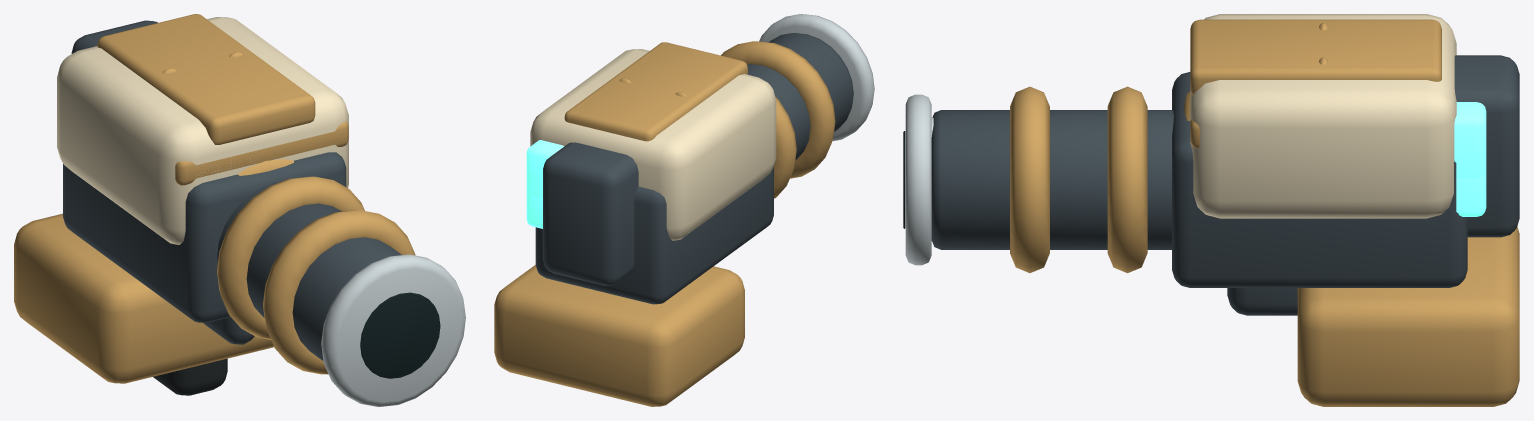
File: shoulder_cannon.t4.glb
3 renders of one model, left to right at view 1: azimuth 30°, elevation 25°; view 2: azimuth 150°, elevation 25°; view 3: azimuth 270°, elevation 25°, orthographic. The views are drawn at different scales.
Visible parts, largest first — view 1: weapon_shoulder__worn_warm_brass__protected, weapon_shoulder__clay_warm_ivory__protected, weapon_shoulder__forged_bluelead_steel__protected, weapon_right__worn_warm_brass__protected, weapon_shoulder__honed_steel_edge__protected, weapon_shoulder__eye_socket__protected, weapon_right__charcoal_rubber__protected, weapon_right__forged_bluelead_steel__protected; view 2: weapon_shoulder__worn_warm_brass__protected, weapon_shoulder__clay_warm_ivory__protected, weapon_shoulder__forged_bluelead_steel__protected, weapon_right__forged_bluelead_steel__protected, weapon_right__worn_warm_brass__protected, weapon_shoulder__honed_steel_edge__protected, weapon_right__mint_reticle__protected, weapon_shoulder__mint_reticle__protected; view 3: weapon_shoulder__forged_bluelead_steel__protected, weapon_shoulder__worn_warm_brass__protected, weapon_shoulder__clay_warm_ivory__protected, weapon_right__worn_warm_brass__protected, weapon_right__forged_bluelead_steel__protected, weapon_shoulder__honed_steel_edge__protected, weapon_right__mint_reticle__protected, weapon_shoulder__mint_reticle__protected.
Part boxes in pixels (x1,y1,x2,y2): weapon_shoulder__worn_warm_brass__protected: (14, 121, 415, 383); weapon_shoulder__clay_warm_ivory__protected: (57, 17, 348, 244); weapon_shoulder__forged_bluelead_steel__protected: (63, 152, 401, 360); weapon_right__worn_warm_brass__protected: (97, 14, 315, 144); weapon_shoulder__honed_steel_edge__protected: (321, 254, 465, 406); weapon_shoulder__eye_socket__protected: (360, 292, 440, 378); weapon_right__charcoal_rubber__protected: (153, 358, 227, 395); weapon_right__forged_bluelead_steel__protected: (71, 20, 254, 343); weapon_shoulder__worn_warm_brass__protected: (494, 41, 835, 406); weapon_shoulder__clay_warm_ivory__protected: (530, 49, 776, 240); weapon_shoulder__forged_bluelead_steel__protected: (535, 33, 853, 304); weapon_right__forged_bluelead_steel__protected: (543, 142, 638, 285); weapon_right__worn_warm_brass__protected: (564, 42, 747, 141); weapon_shoulder__honed_steel_edge__protected: (759, 14, 874, 141); weapon_right__mint_reticle__protected: (526, 140, 564, 198); weapon_shoulder__mint_reticle__protected: (526, 180, 542, 228); weapon_shoulder__forged_bluelead_steel__protected: (931, 72, 1467, 315); weapon_shoulder__worn_warm_brass__protected: (1010, 86, 1519, 406); weapon_shoulder__clay_warm_ivory__protected: (1190, 14, 1456, 218); weapon_right__worn_warm_brass__protected: (1190, 19, 1441, 95); weapon_right__forged_bluelead_steel__protected: (1227, 55, 1519, 315); weapon_shoulder__honed_steel_edge__protected: (905, 94, 931, 265); weapon_right__mint_reticle__protected: (1454, 102, 1486, 178); weapon_shoulder__mint_reticle__protected: (1456, 159, 1486, 216).
Size of the model in its own units: 0.371 by 0.5639 by 0.883.
